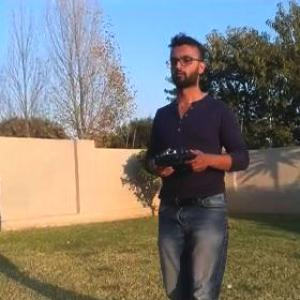follow: (133, 22, 253, 299)
